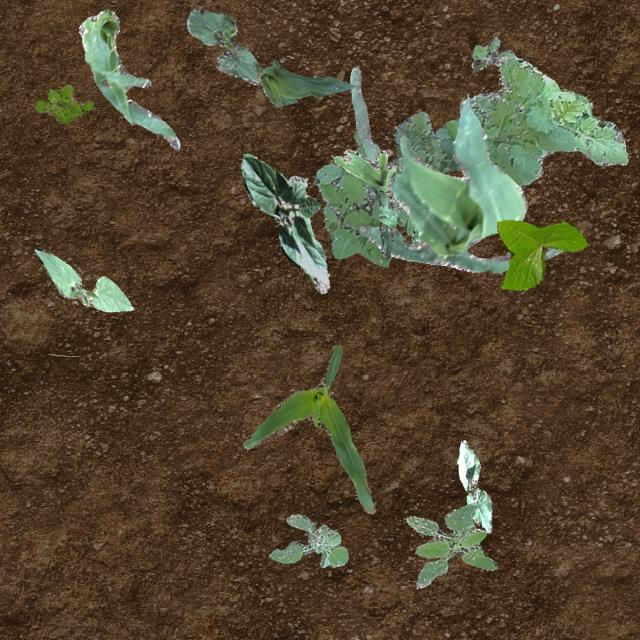crop: (349, 65, 562, 272), (242, 343, 374, 512), (78, 8, 180, 148), (240, 152, 328, 292), (332, 148, 396, 260), (496, 218, 586, 290), (32, 246, 132, 310), (186, 8, 258, 84), (252, 58, 356, 105), (456, 439, 492, 532)
weed: (313, 54, 626, 266), (406, 502, 496, 588), (268, 514, 346, 566), (34, 84, 92, 122), (396, 154, 418, 243), (471, 36, 514, 70)
